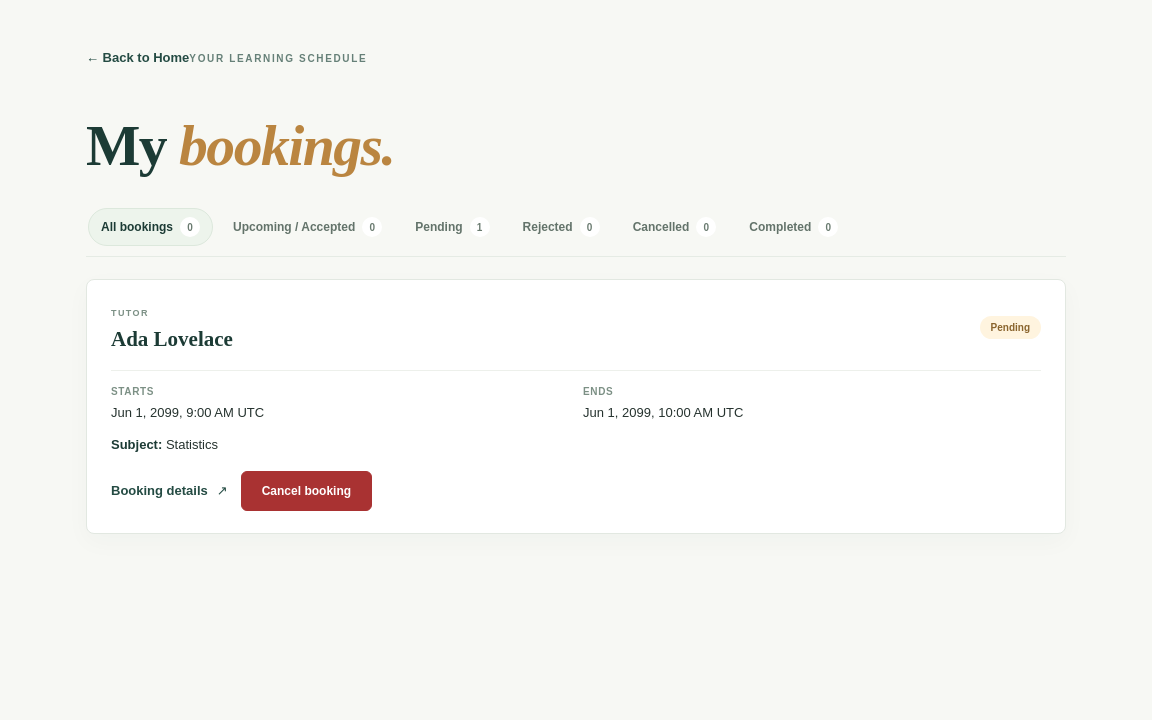
Test case: student bookings page › keeps the booking visible and shows the backend cancellation error
The width and height of the screenshot is (1152, 720).
What coordinates should you click on to do the following:
click the tab "Pending 1"
I would click on:
 (452, 227)
Its box is [402,208,503,246].
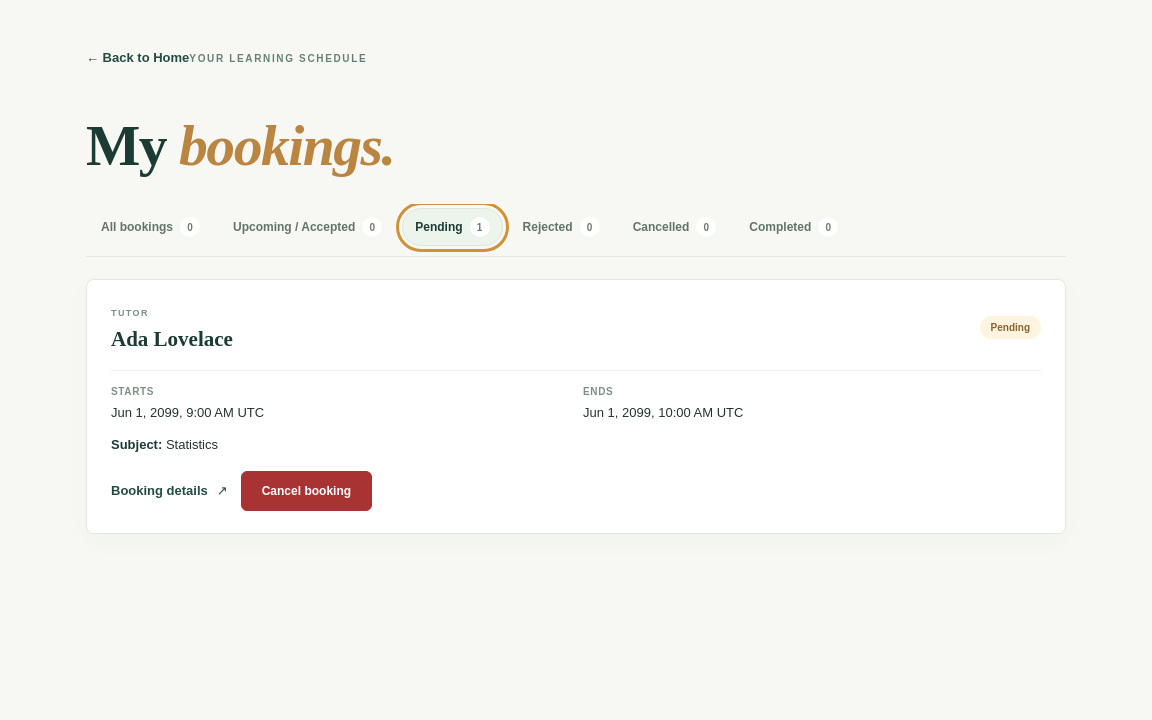
What coordinates should you click on to do the following:
click the button "Cancel booking"
I would click on:
 (306, 491)
Its box is [241,471,372,511].
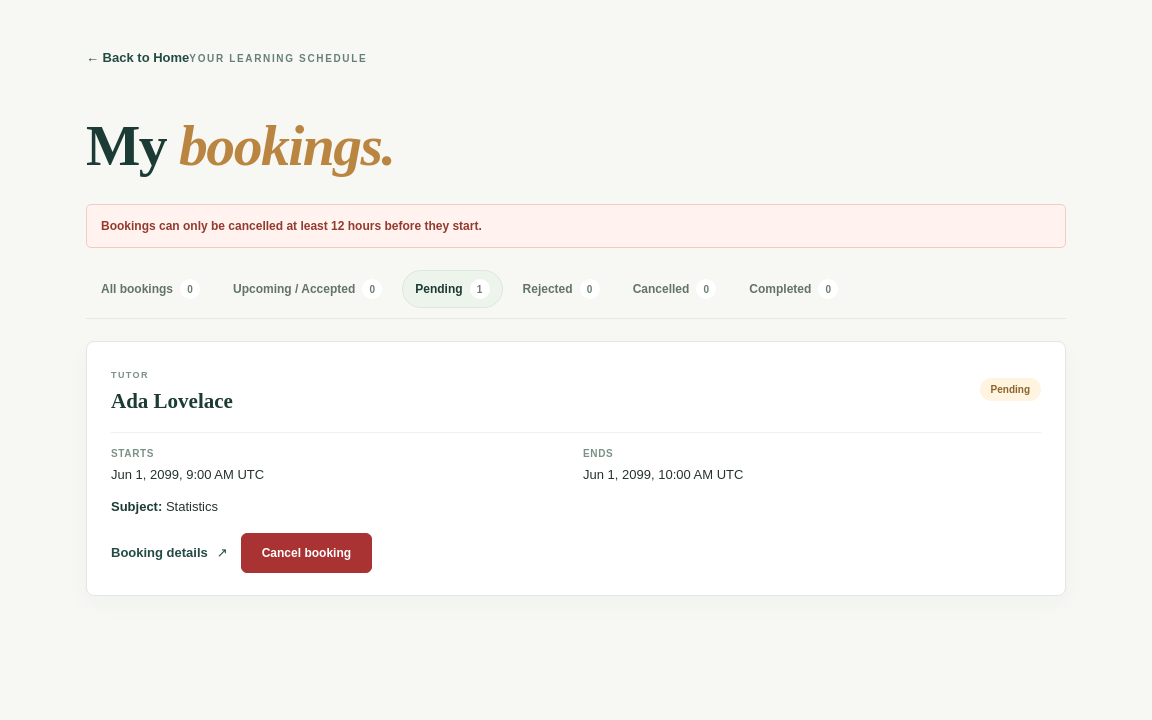
Check: the text "Pending" is shown, box [980,378,1041,401]
Check: the message reads "Bookings can only be cancelled at least 12 hours before they start.", box [101,219,482,233]
